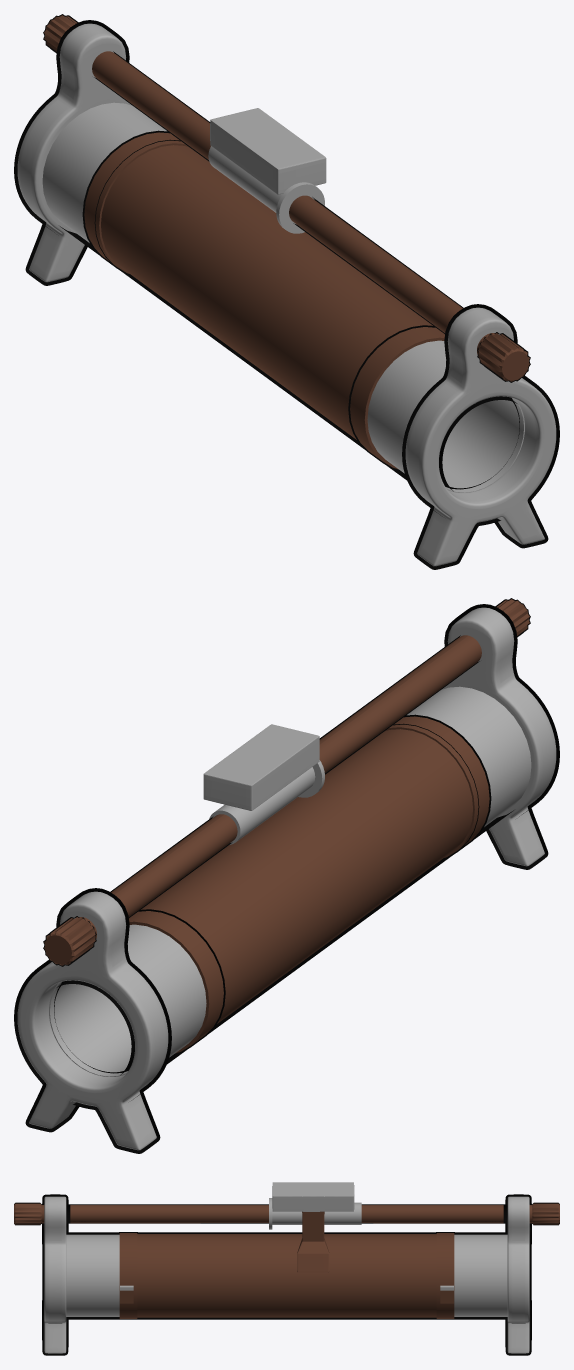
The picture shows the model from 3 angles, top to bottom: view 1: azimuth 30°, elevation 25°; view 2: azimuth 150°, elevation 25°; view 3: azimuth 270°, elevation 25°; orthographic projection. The views are drawn at different scales.
Visible parts, largest first — view 1: 柱体.010, 柱体.007, 柱体.008, 柱体.012, 柱体.034, 立方体.003, 柱体.035, 柱体.011, 柱体.041, 柱体.013, 柱体.036, 柱体.009 (+2 smaller); view 2: 柱体.010, 柱体.007, 柱体.034, 柱体.012, 柱体.008, 立方体.003, 柱体.036, 柱体.041, 柱体.011, 柱体.013, 柱体.035, 柱体.037 (+2 smaller); view 3: 柱体.010, 柱体.007, 柱体.012, 立方体.003, 柱体.008, 柱体.034, 柱体.040, 柱体.011, 柱体.041, 柱体.013, 柱体.033, 柱体.044 (+6 smaller).
Boxes of the visible parts, box(x1,y1,x2,y2) form: 柱体.010: box(101, 145, 432, 439); 柱体.007: box(42, 102, 524, 492); 柱体.008: box(405, 307, 556, 566); 柱体.012: box(92, 51, 462, 332); 柱体.034: box(17, 23, 132, 282); 立方体.003: box(210, 108, 326, 194); 柱体.035: box(402, 304, 559, 569); 柱体.011: box(350, 327, 444, 469); 柱体.041: box(84, 132, 188, 273); 柱体.013: box(208, 146, 324, 233); 柱体.036: box(14, 20, 129, 285); 柱体.009: box(477, 333, 529, 381); 柱体.010: box(141, 729, 472, 1023); 柱体.007: box(49, 686, 531, 1076); 柱体.034: box(17, 891, 168, 1150); 柱体.012: box(111, 635, 481, 916); 柱体.008: box(441, 607, 556, 866); 立方体.003: box(203, 724, 319, 810); 柱体.036: box(14, 888, 171, 1153); 柱体.041: box(129, 911, 223, 1053); 柱体.011: box(385, 716, 489, 857); 柱体.013: box(209, 760, 324, 844); 柱体.035: box(444, 604, 559, 869); 柱体.037: box(44, 917, 96, 965); 柱体.010: box(137, 1234, 436, 1317); 柱体.007: box(66, 1234, 507, 1316); 柱体.012: box(70, 1205, 503, 1223); 立方体.003: box(272, 1182, 354, 1272); 柱体.008: box(44, 1196, 66, 1353); 柱体.034: box(507, 1196, 529, 1353); 柱体.040: box(132, 1232, 441, 1319); 柱体.011: box(119, 1233, 137, 1318); 柱体.041: box(436, 1233, 454, 1318); 柱体.013: box(269, 1198, 361, 1229); 柱体.033: box(66, 1232, 507, 1319); 柱体.044: box(66, 1204, 507, 1223).
Bounding box in the file's own units: 0.5368 × 0.9223 × 3.02.
